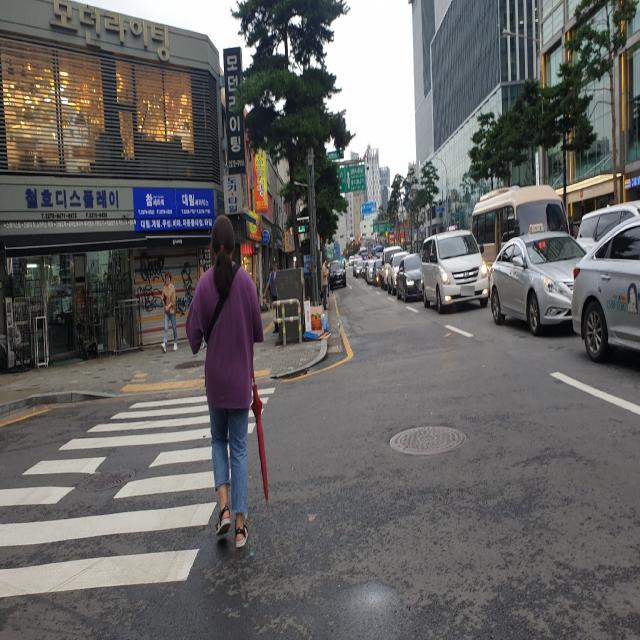횡단보도: (1, 382, 278, 604)
